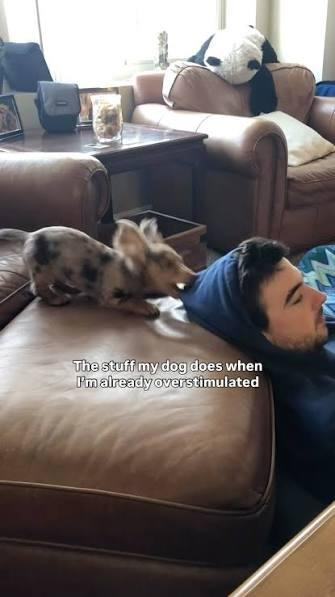adult_dog: (28, 221, 195, 319)
